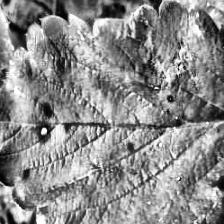Leaf Spot: (0, 0, 224, 224), (150, 118, 224, 224), (163, 0, 224, 117)
